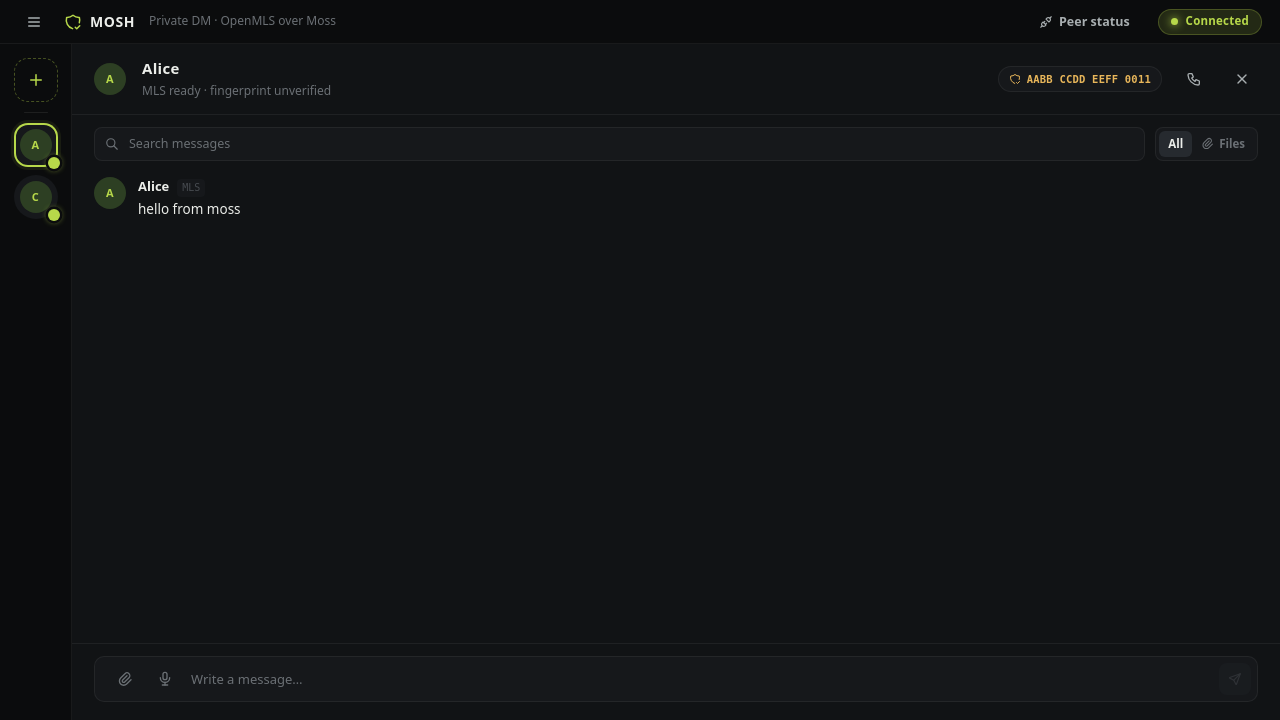
Test: PrivateDmScreen conversations › lists active sessions in the rail and switches between them
The width and height of the screenshot is (1280, 720).
Click the button named "Open session with": (36, 197) [14,175,58,219]
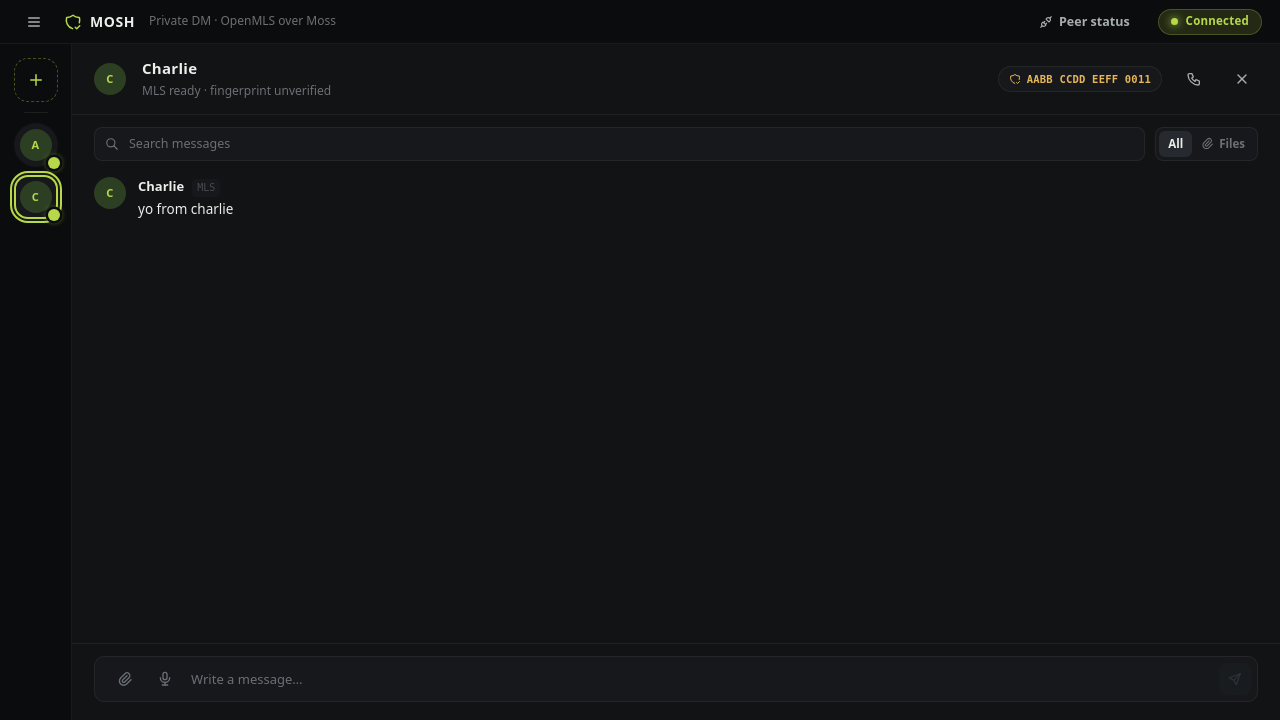
expect the text "yo from charlie" is shown: met, box [138,200,233,218]
